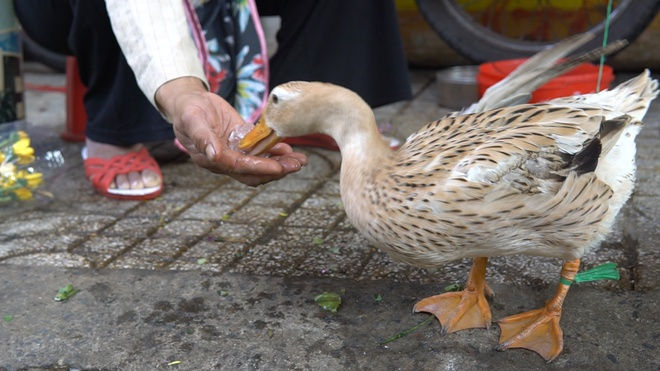Vịt/Duck: (220, 59, 637, 366)
